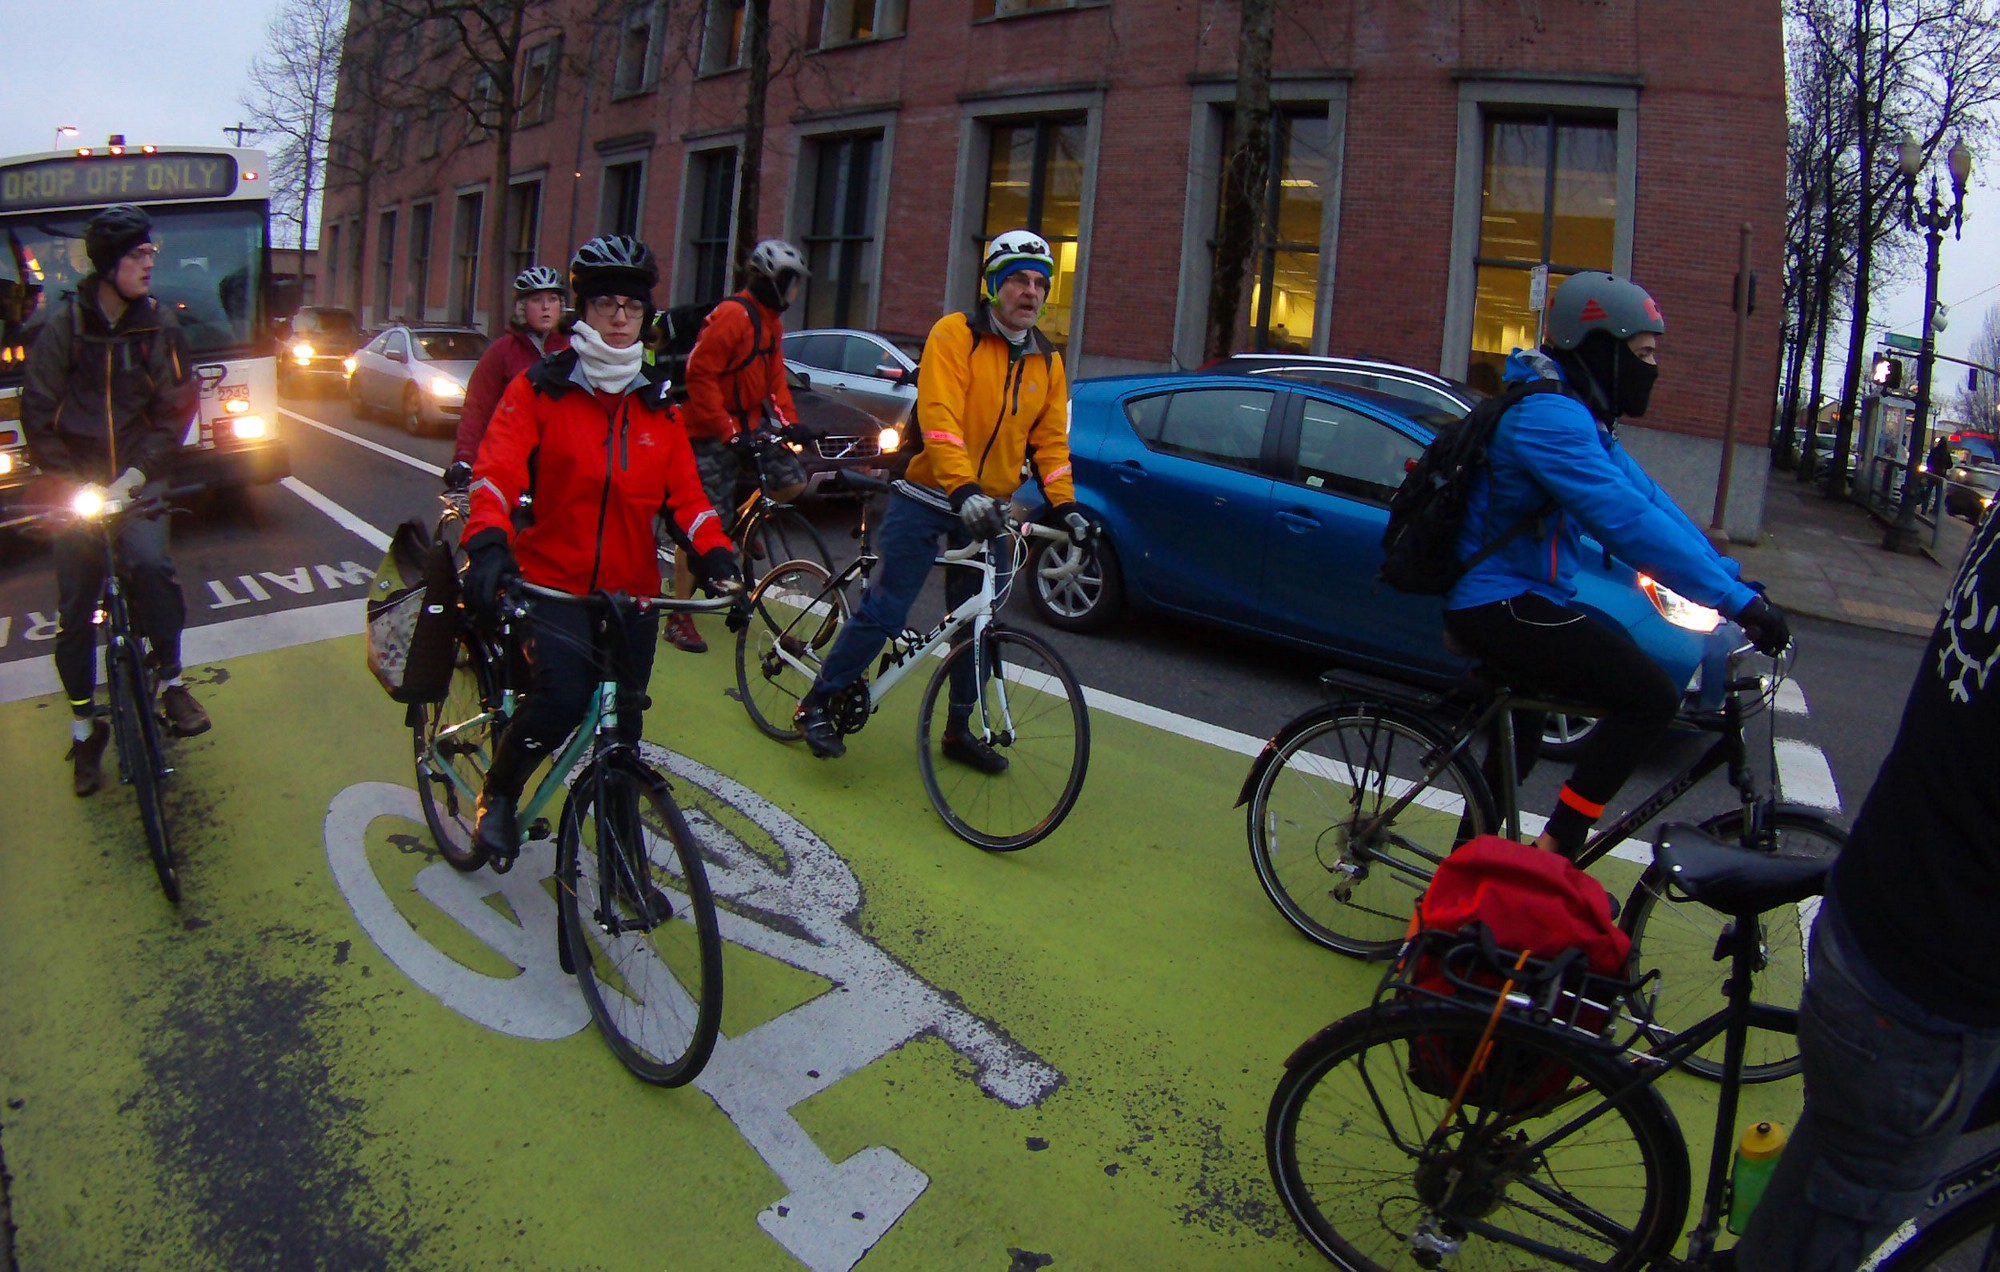with_helmet: (1541, 265, 1671, 357), (566, 237, 678, 318), (977, 216, 1055, 299)
